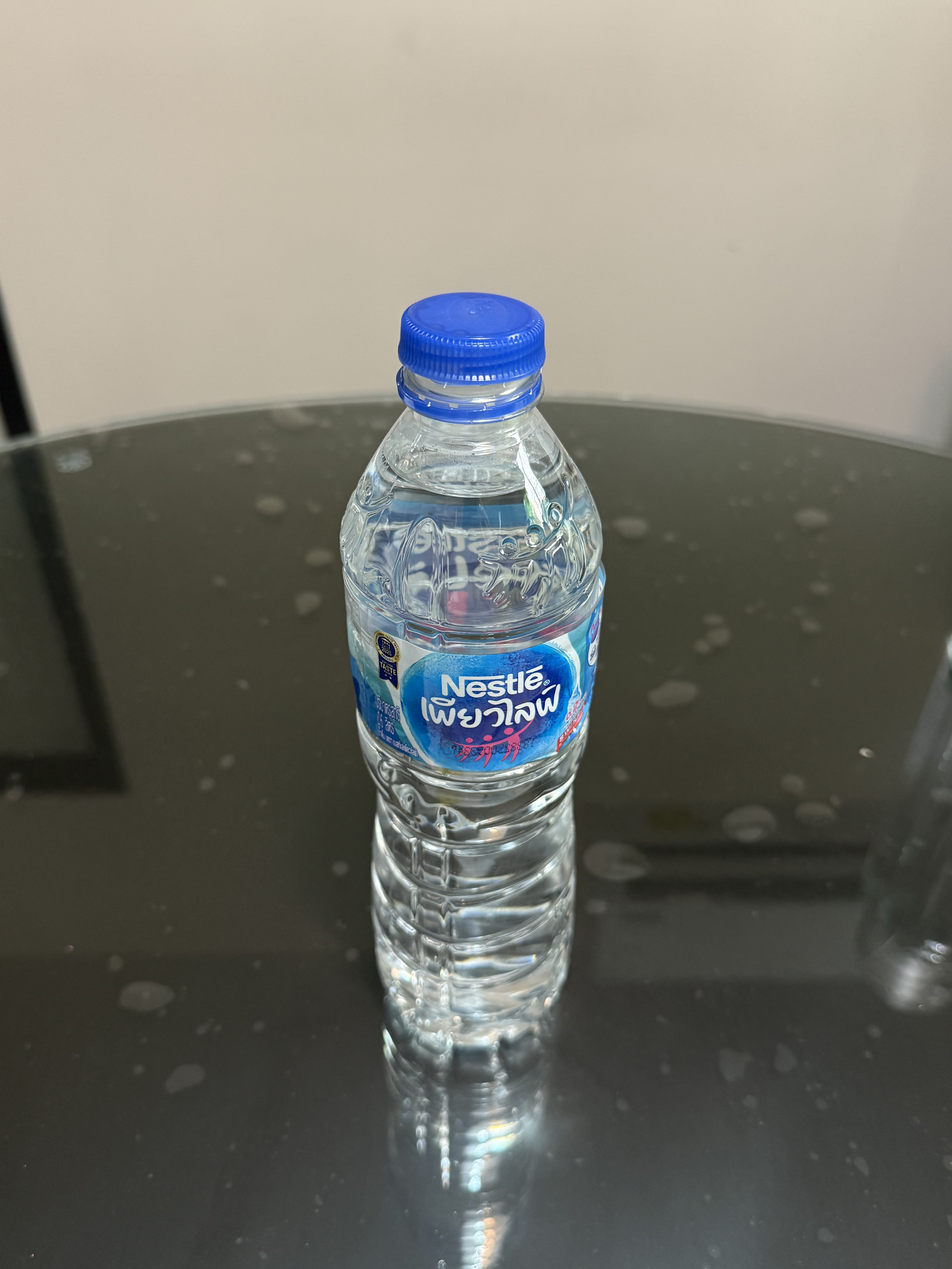half_cap: (391, 286, 549, 420)
